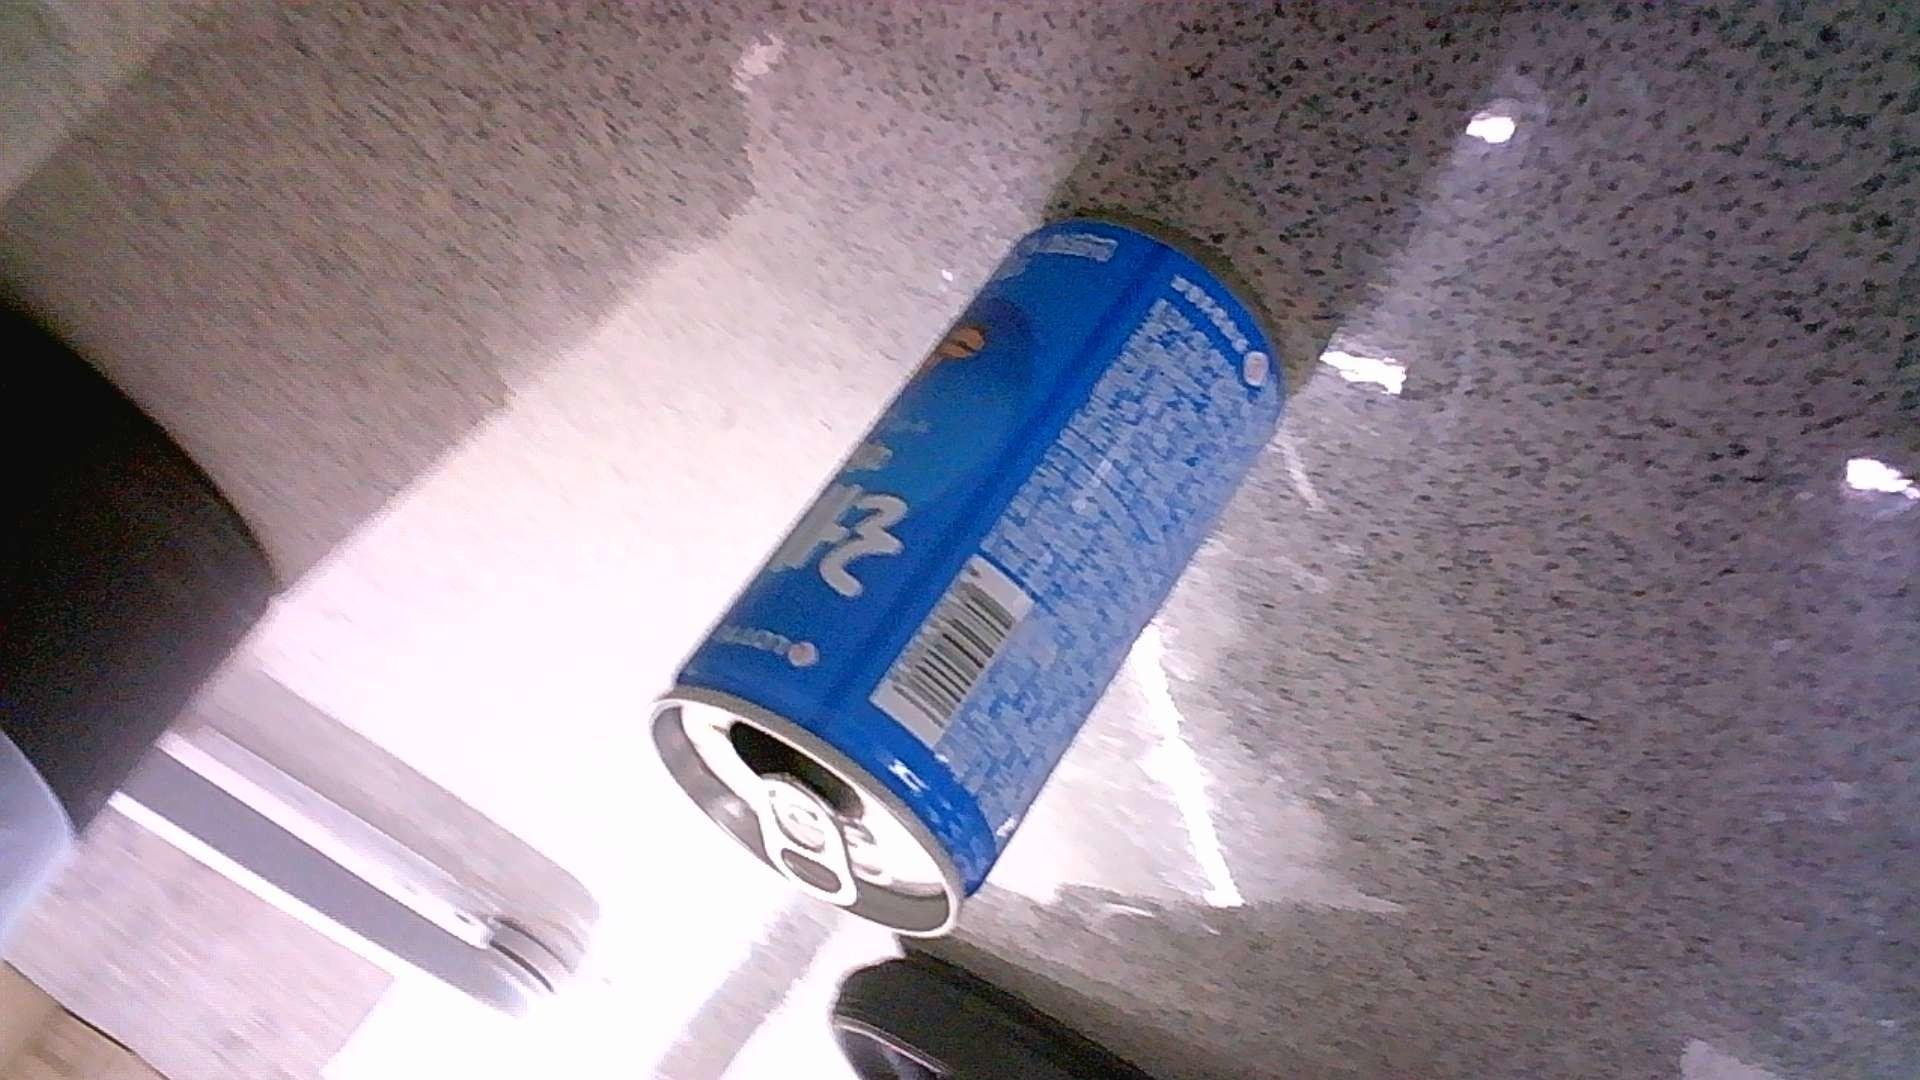letsbe: (650, 210, 1284, 939)
